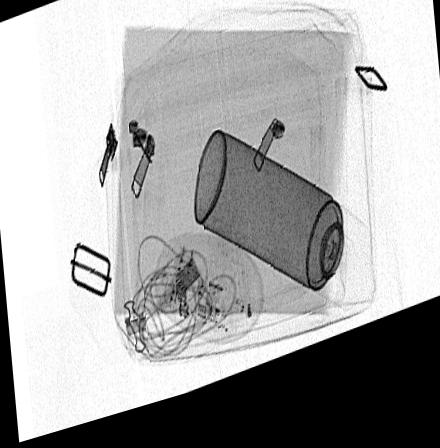Sprayer: (192, 141, 370, 332)
